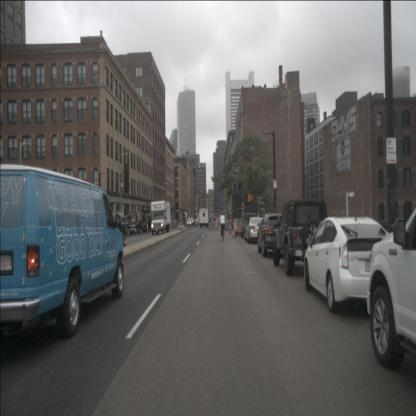human-pedestrian-adult: (211, 217, 214, 228)
movable_object-trafficcone: (233, 221, 237, 238), (219, 220, 222, 232), (216, 219, 219, 231), (146, 223, 149, 234), (229, 224, 232, 235), (169, 221, 172, 230), (172, 223, 175, 230), (195, 221, 197, 226)
vehicle-car: (0, 164, 124, 338), (304, 215, 399, 313), (366, 195, 416, 372), (273, 200, 328, 276), (258, 213, 290, 258), (97, 213, 130, 247), (245, 216, 266, 244), (241, 212, 257, 237), (188, 217, 194, 226), (186, 219, 192, 226)
vehicle-truck: (150, 200, 171, 234), (126, 213, 142, 234), (199, 208, 209, 227)
